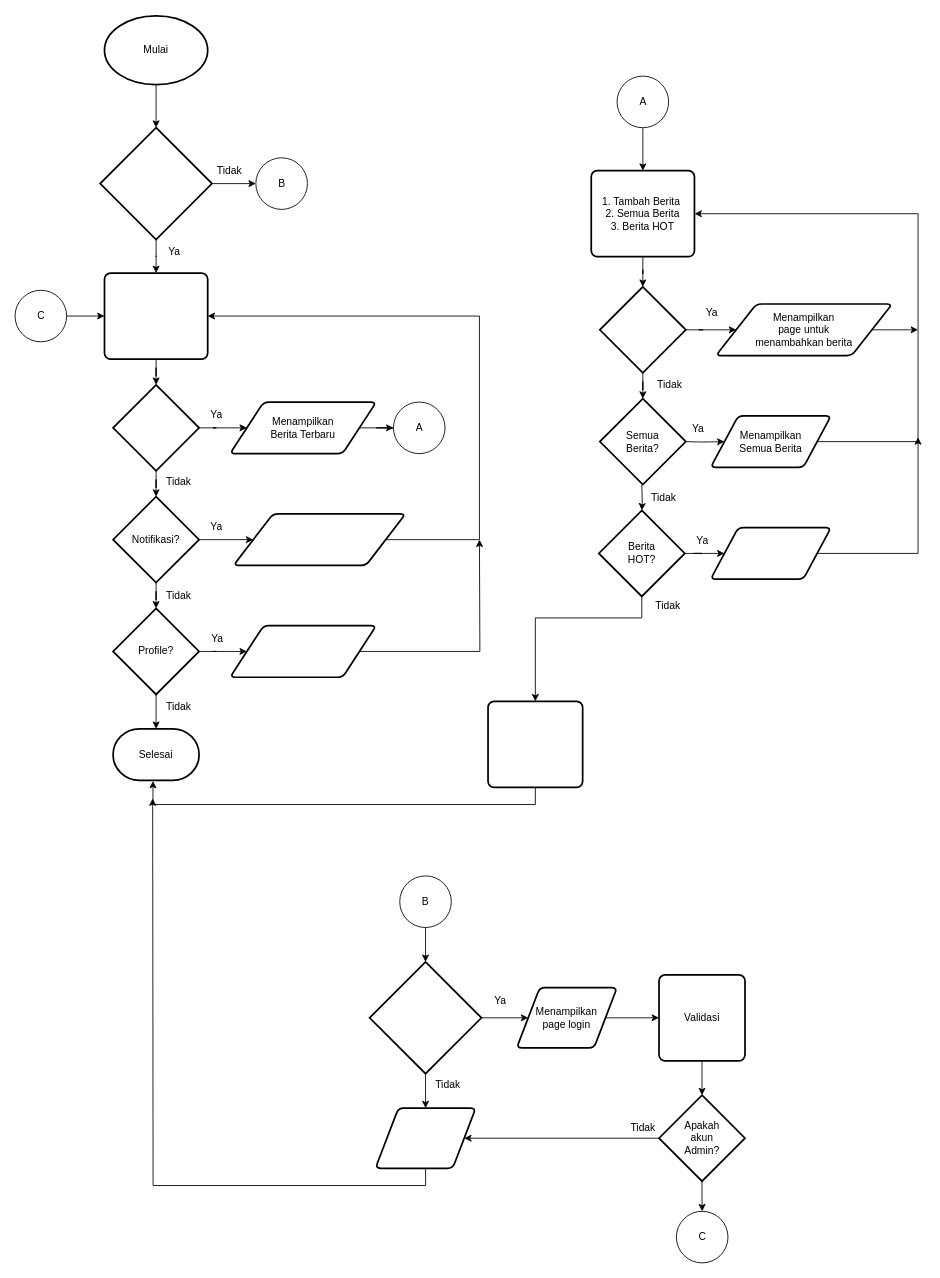
The diagram is 940 pixels wide and 1278 high, and some of its shapes have lost their labels. Each missing label, with the centre of its shape:
1. Berita 2. Notifikasi 3. Profile: (155,315)
1. Like Berita 2. Komen Berita: (535,744)
Anda bukanlah Admin: (425,1138)
Apakah Anda sudah login?: (155,183)
Apakah Anda telah memiliki Akun?: (425,1017)
Berita?: (156,427)
Menampilkan Berita Trending: (770,553)
Menampilkan Data Profile: (303,651)
Menampilkan Notif Berita Terbaru atau Replay Komentar: (319,539)
Tambah Berita?: (642,329)
